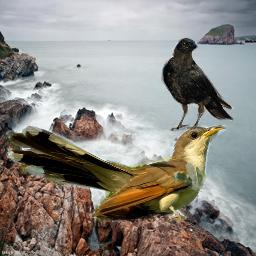Crow: (161, 37, 234, 131)
Cuckoo: (6, 125, 226, 222)
